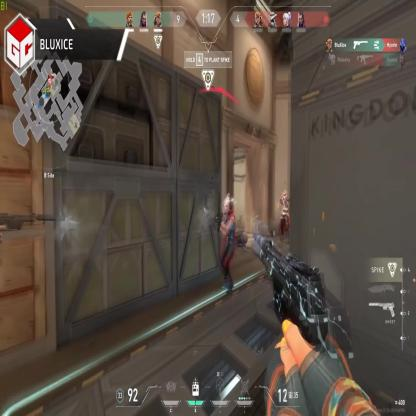enemy: (218, 197, 233, 291), (279, 192, 291, 244)
enemy_head: (223, 195, 231, 214), (282, 190, 288, 203)
